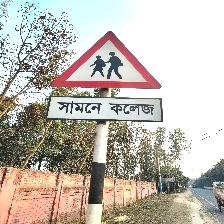College-in-front: (39, 23, 183, 132)
